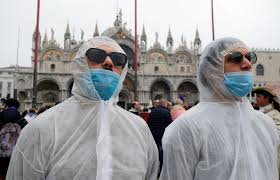with_incorrect_mask: (88, 48, 125, 98), (225, 51, 256, 95)
